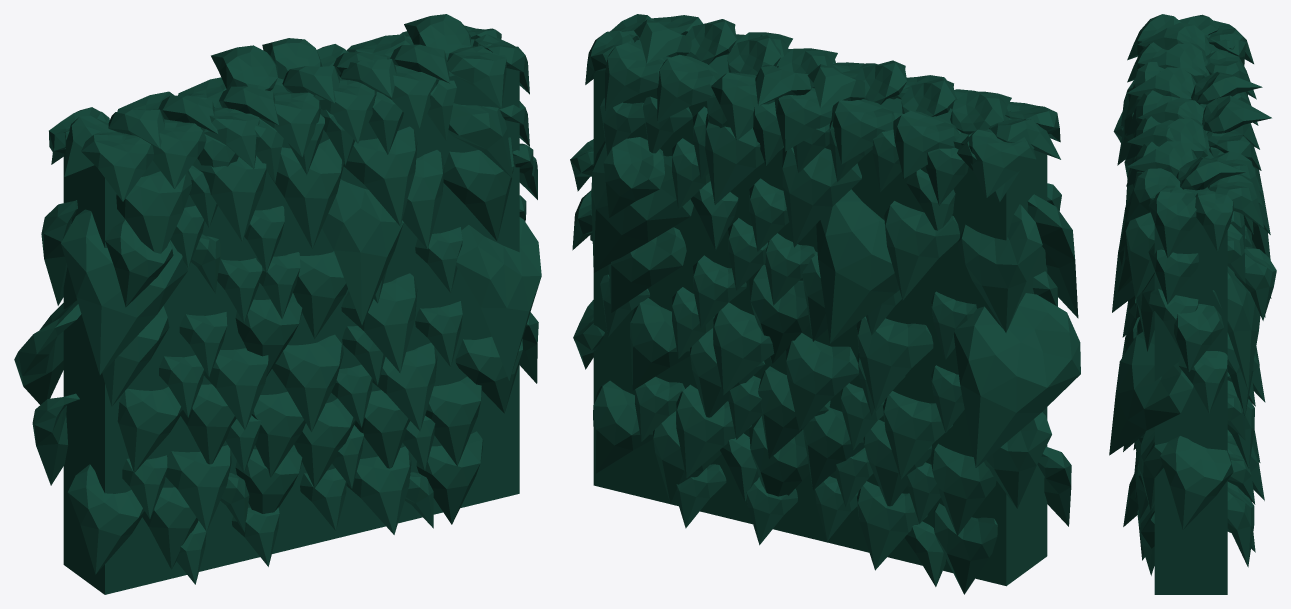
Rendered from Wall.fbx.
3 views of the same model, side by side, from view 1: azimuth 30°, elevation 25°; view 2: azimuth 150°, elevation 25°; view 3: azimuth 270°, elevation 25° (orthographic). The views are drawn at different scales.
Visible parts, largest first — view 1: Cube; view 2: Cube; view 3: Cube.
Boxes of the visible parts, left/top/right/bottom form: Cube: left=14, top=14, right=541, bottom=594; Cube: left=570, top=14, right=1080, bottom=594; Cube: left=1109, top=14, right=1276, bottom=594.
Size of the model in its own units: 1231 by 1133 by 396.
